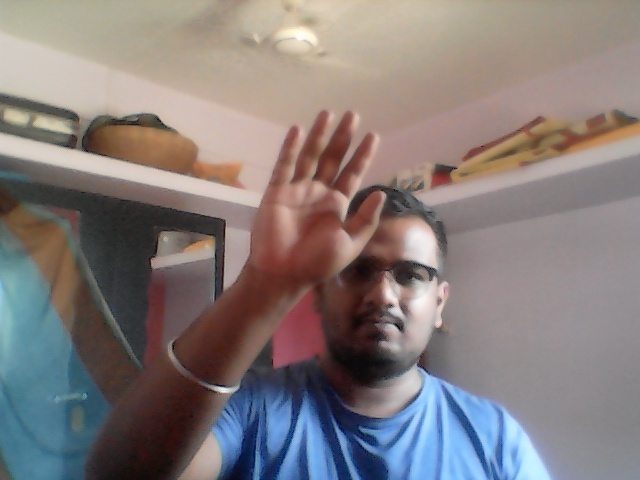Hello: (249, 106, 392, 289)
